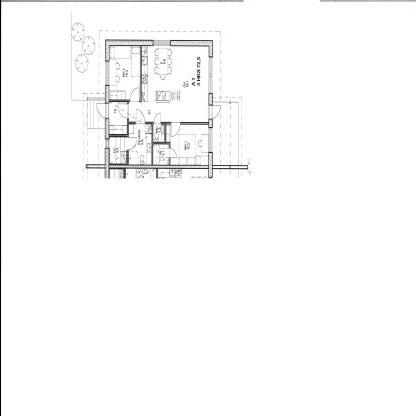door: (94, 101, 108, 119), (207, 103, 219, 122), (128, 85, 140, 103), (125, 137, 137, 153), (116, 103, 128, 119), (135, 107, 145, 125), (170, 121, 180, 137), (152, 112, 161, 125), (167, 146, 176, 158)
window: (205, 54, 213, 96), (205, 126, 213, 154), (102, 60, 110, 86), (151, 39, 170, 48), (103, 137, 109, 149)
